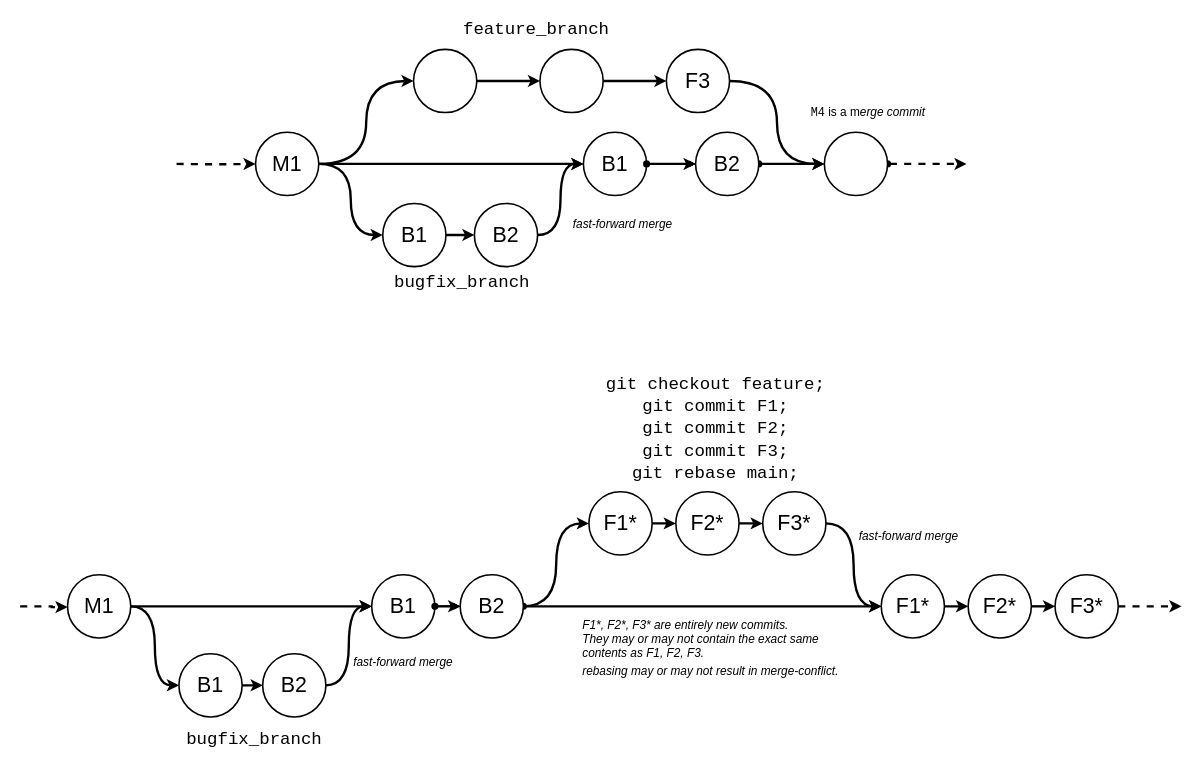
This 1202x769 diagram has some shape labels left out. Each missing label, with the centre of its shape:
"F1" belongs at (444,80).
"F2" belongs at (571,80).
"M4" belongs at (855,163).
